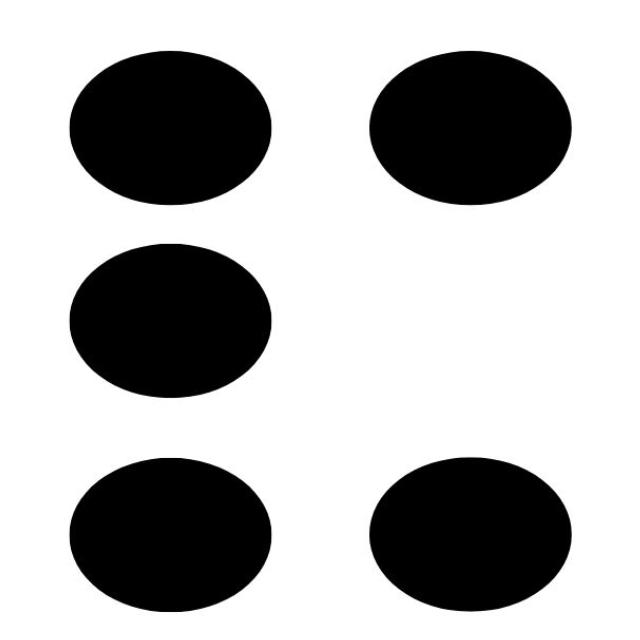one_cell_non_alphabet_ay: (70, 45, 573, 614)
